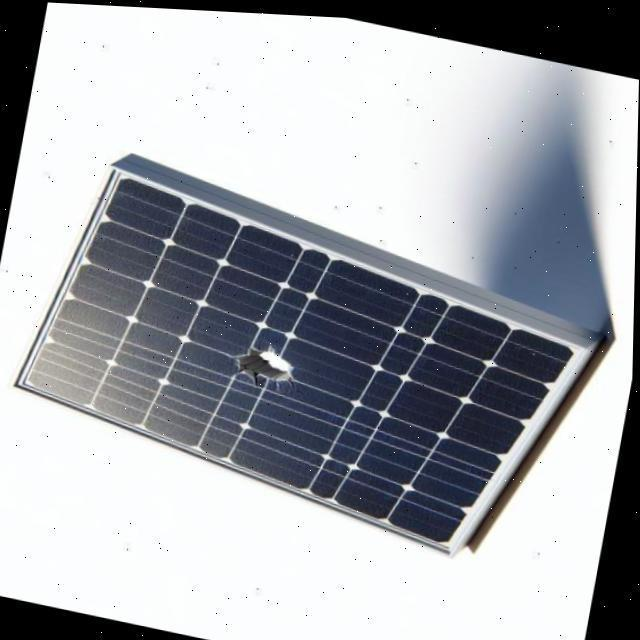Anomaly Solar Panel: (20, 166, 583, 567)
Structural Damage: (230, 345, 293, 382), (284, 375, 307, 401)
